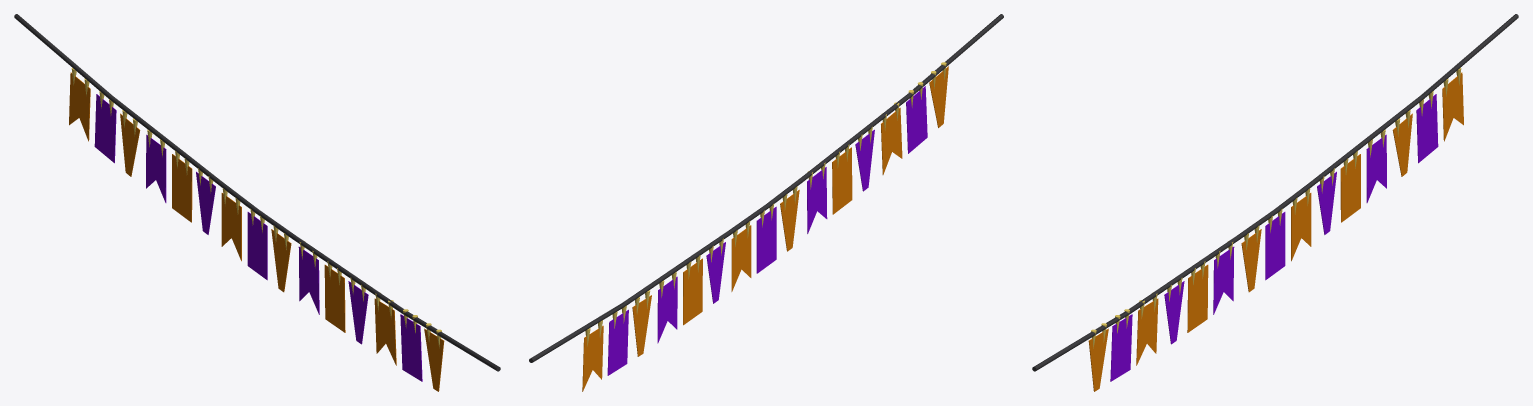
Rendered from Pennants_O_P.fbx.
The picture shows the model from 3 angles, left to right: view 1: azimuth 30°, elevation 25°; view 2: azimuth 150°, elevation 25°; view 3: azimuth 330°, elevation 25°; orthographic projection. The views are drawn at different scales.
Visible parts, largest first — view 1: Pennant_O_P; view 2: Pennant_O_P; view 3: Pennant_O_P.
Boxes of the visible parts, box(x1,y1,x2,y2) form: Pennant_O_P: box(14, 14, 500, 391); Pennant_O_P: box(529, 14, 1003, 391); Pennant_O_P: box(1032, 14, 1518, 391).
Size of the model in its own units: 18.91 by 304 by 3223.
